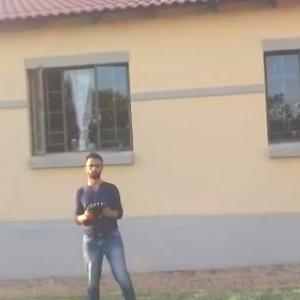follow: (70, 151, 145, 299)
